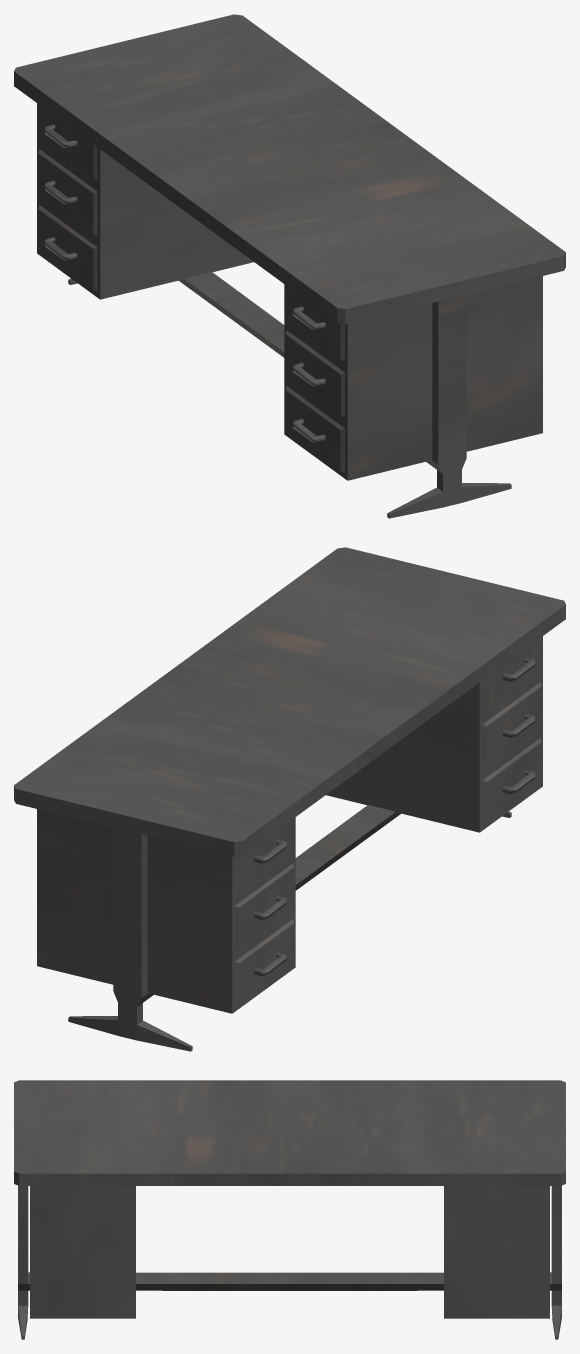
Rendered from MesaTrabajo.obj.
3 renders of one model, top to bottom at view 1: azimuth 30°, elevation 25°; view 2: azimuth 150°, elevation 25°; view 3: azimuth 270°, elevation 25°, orthographic. The views are drawn at different scales.
Visible parts, largest first — view 1: Cube.011; view 2: Cube.011; view 3: Cube.011.
Part boxes in pixels (x1=…): Cube.011: x1=14, y1=14, x2=565, y2=518; Cube.011: x1=14, y1=547, x2=565, y2=1051; Cube.011: x1=14, y1=1080, x2=565, y2=1339.
Bounding box in the file's own units: 2.29 × 2.15 × 5.74.
1 material, 1 textured.
